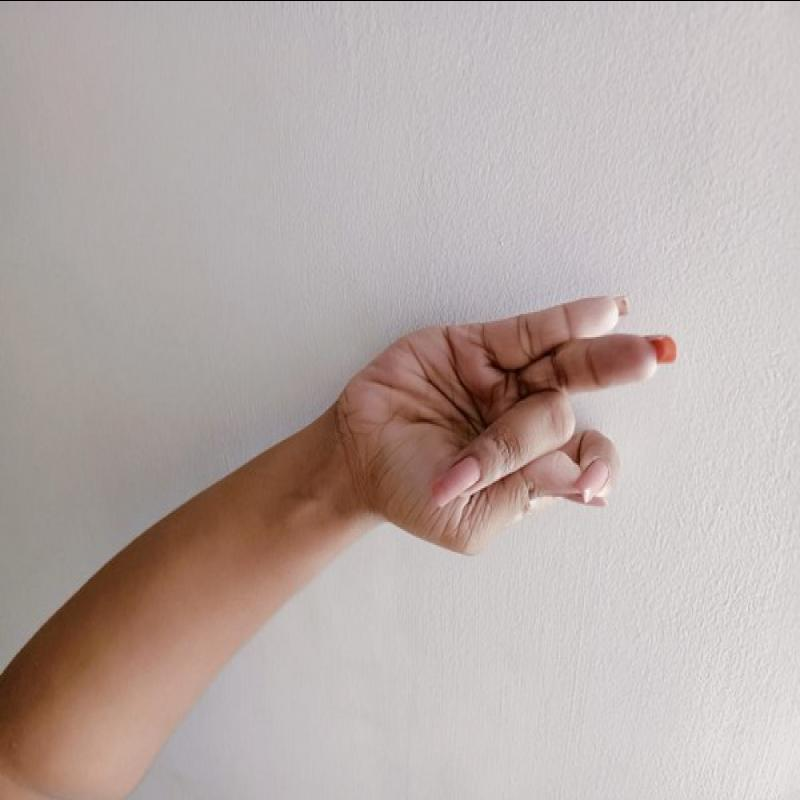Katakam: (327, 272, 693, 574)
